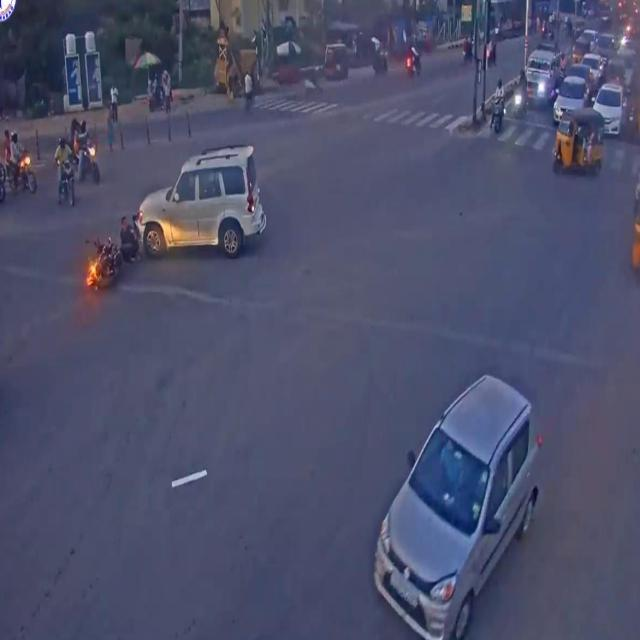accident: (81, 139, 271, 301)
non_accident: (491, 50, 640, 186), (49, 111, 103, 212), (0, 119, 40, 221)
